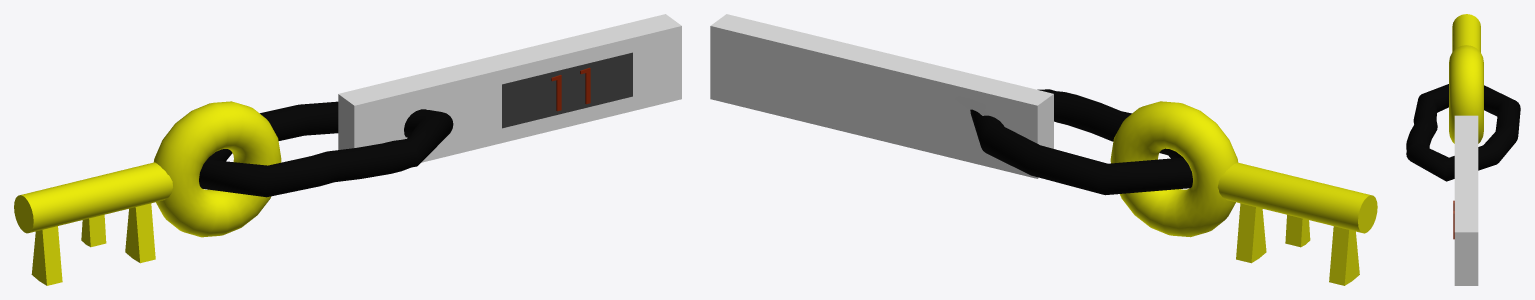
Rendered from KeyNumber11.fbx.
3 views of the same model, side by side, from view 1: azimuth 30°, elevation 25°; view 2: azimuth 150°, elevation 25°; view 3: azimuth 270°, elevation 25° (orthographic). The views are drawn at different scales.
Visible parts, largest first — view 1: KeyTag, String, KeyRing, KeyInsert, Numbers; view 2: KeyTag, KeyRing, KeyInsert, String; view 3: String, KeyTag, KeyRing, KeyInsert.
Part boxes in pixels (box(x1,y1,x2,y2)): KeyTag: box(338, 14, 681, 162); String: box(199, 101, 453, 197); KeyRing: box(153, 101, 281, 237); KeyInsert: box(14, 162, 172, 285); Numbers: box(551, 67, 590, 111); KeyTag: box(710, 14, 1053, 178); KeyRing: box(1110, 101, 1238, 237); KeyInsert: box(1217, 162, 1377, 285); String: box(970, 89, 1192, 195); String: box(1406, 84, 1520, 181); KeyTag: box(1454, 115, 1478, 285); KeyRing: box(1449, 45, 1483, 143); KeyInsert: box(1452, 14, 1480, 52).
Size of the model in its own units: 42.74 by 8.41 by 8.92.
